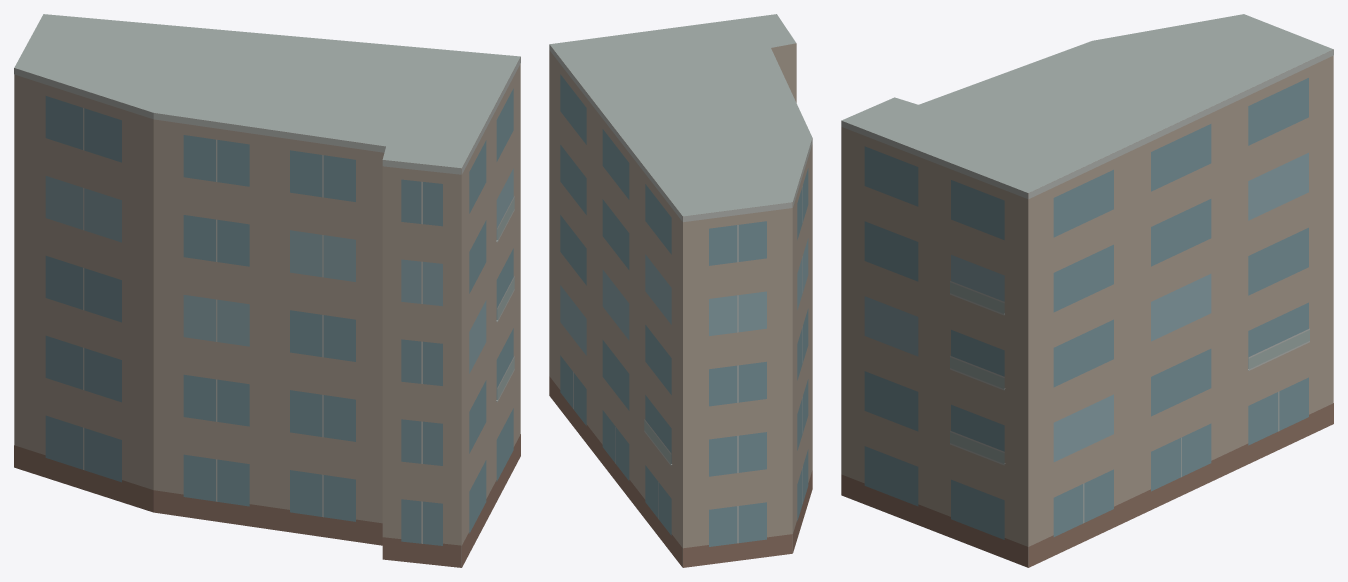
The model's file is survey-upis-32785440.glb.
The picture shows the model from 3 angles, left to right: view 1: azimuth 30°, elevation 25°; view 2: azimuth 150°, elevation 25°; view 3: azimuth 270°, elevation 25°; orthographic projection. The views are drawn at different scales.
Visible parts, largest first — view 1: survey-upis-32785440.tmp; view 2: survey-upis-32785440.tmp; view 3: survey-upis-32785440.tmp.
Part boxes in pixels (box(x1,y1,x2,y2)): survey-upis-32785440.tmp: box(14, 14, 520, 567); survey-upis-32785440.tmp: box(549, 14, 812, 567); survey-upis-32785440.tmp: box(841, 14, 1333, 567).
Size of the model in its own units: 15.29 by 14.9 by 17.76.
